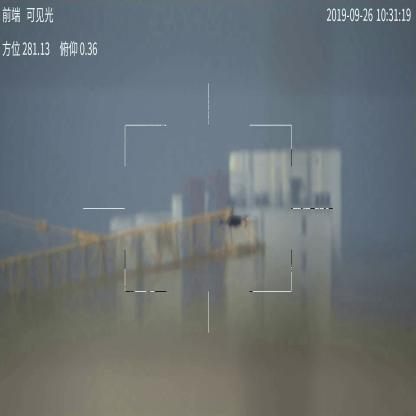uav: (214, 211, 251, 230)
